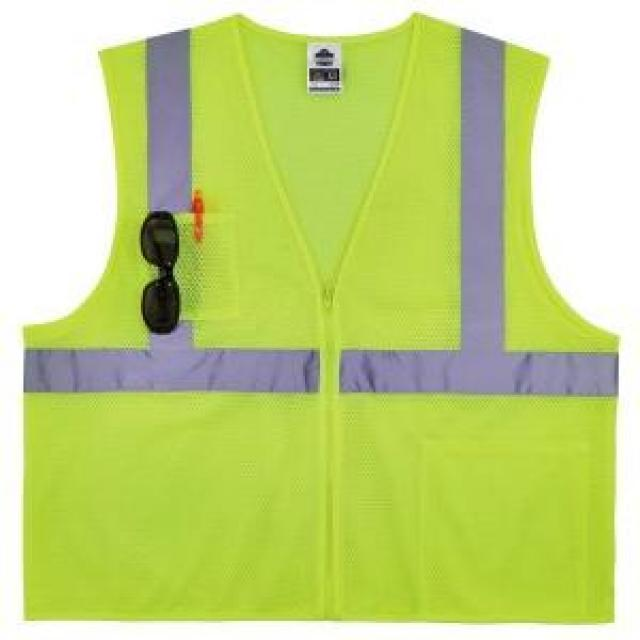Reflective-Jacket: (6, 2, 640, 640)
